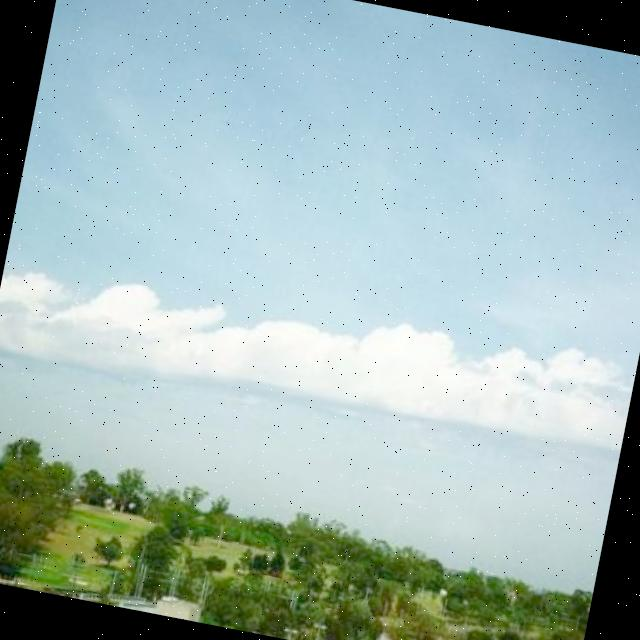Cs: (1, 80, 640, 521)
